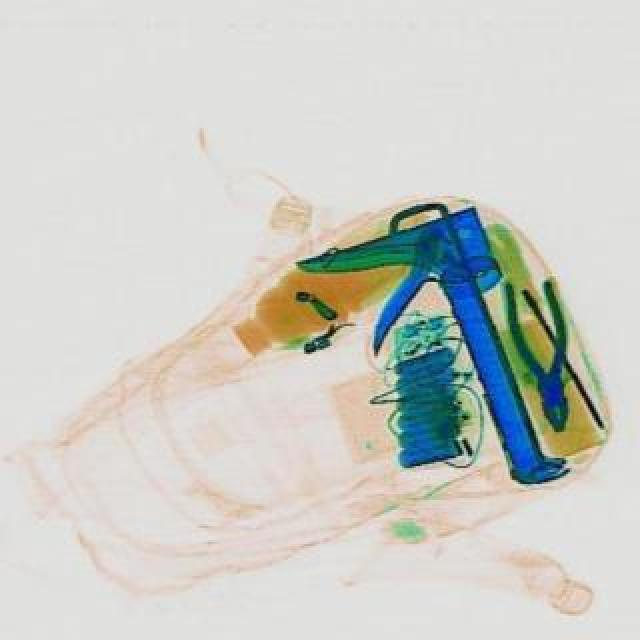knife: (296, 200, 578, 528)
wrench: (494, 274, 592, 438)
